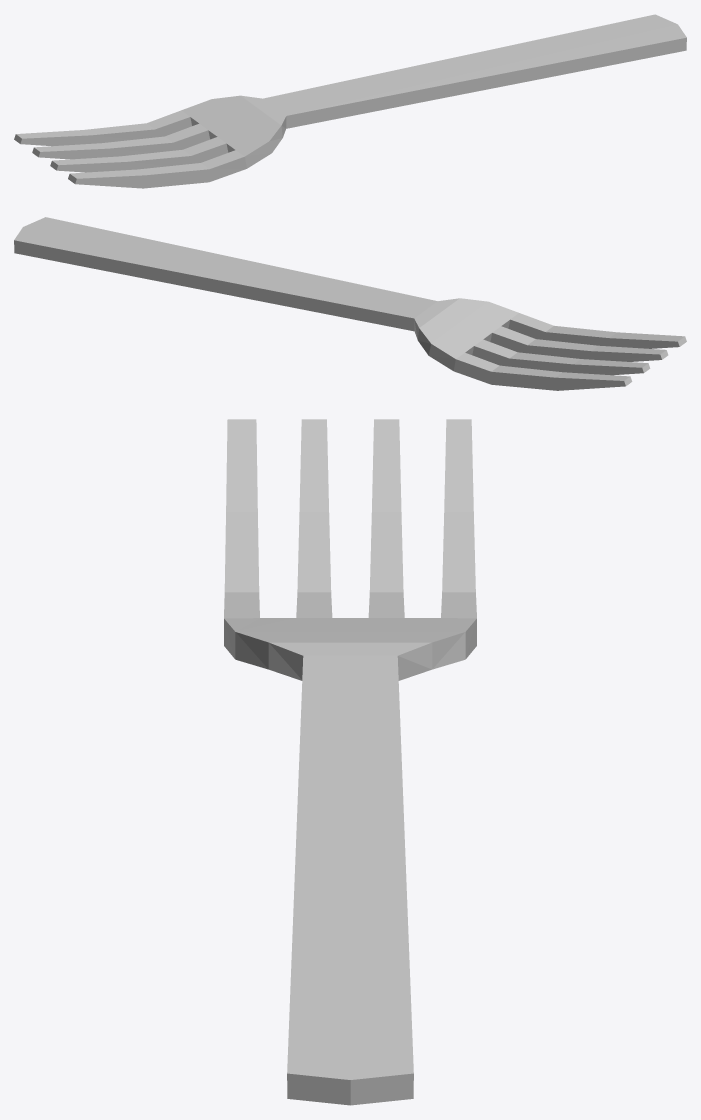
File: Fork.glb
3 renders of one model, top to bottom at view 1: azimuth 30°, elevation 25°; view 2: azimuth 150°, elevation 25°; view 3: azimuth 270°, elevation 25°, orthographic. The views are drawn at different scales.
Visible parts, largest first — view 1: Fork; view 2: Fork; view 3: Fork.
Part boxes in pixels (x1,y1,x2,y2): Fork: (14,14,686,188); Fork: (14,217,686,390); Fork: (224,419,476,1105).
Bounding box in the file's own units: 58.74 × 3.11 × 10.17.
1 material, 1 textured.
